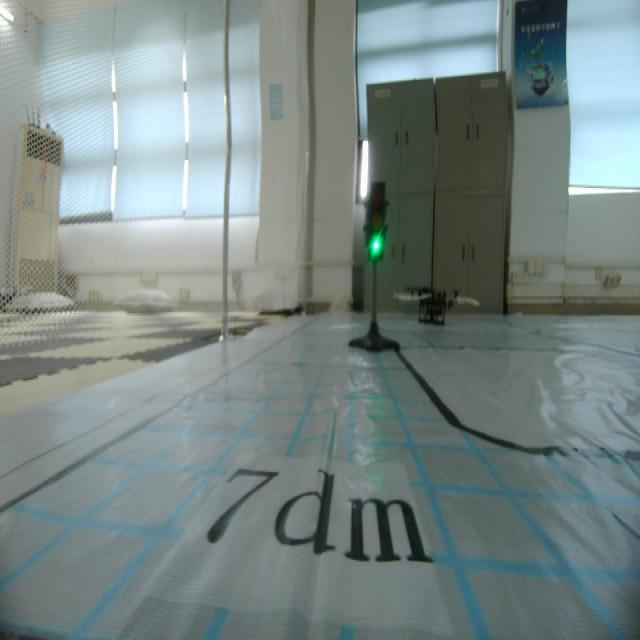green: (365, 177, 387, 264)
